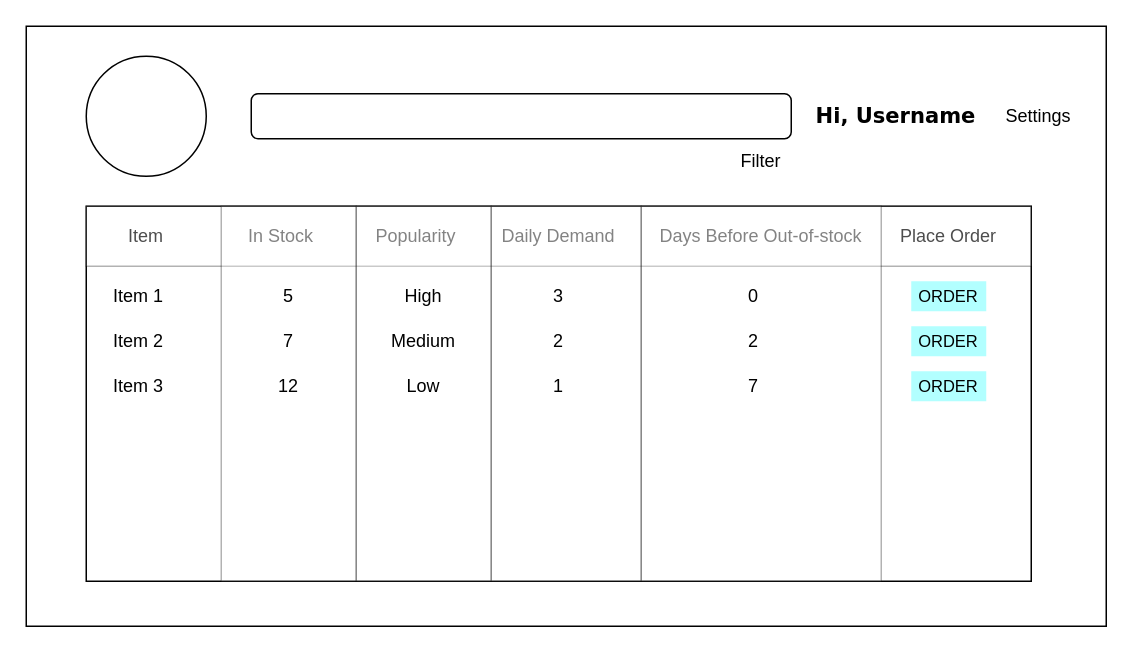
Some shapes in this 1133 by 653 pixel diagram are drawn without their labels. Here are the shapes that lost their labels. From the top down, the box of each, then its label:
(85, 55, 206, 176): LOGO
(250, 92, 791, 139): Search
